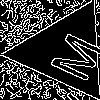M: (40, 26, 100, 84)
